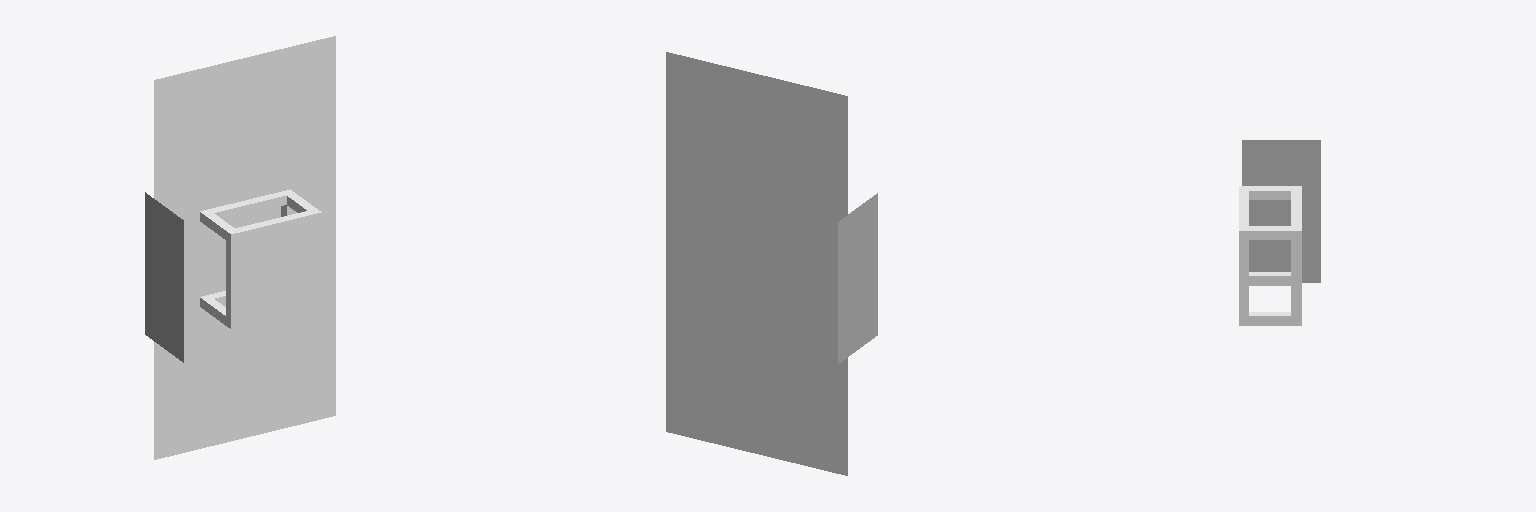
Rendered from linusworld.obj.
3 views of the same model, side by side, from view 1: azimuth 30°, elevation 25°; view 2: azimuth 150°, elevation 25°; view 3: azimuth 270°, elevation 25° (orthographic).
Parts seen in each view (by area): view 1: Plane_Scene.001, Cube__8__Scene, Plane.001_Plane, Cube__3__Scene; view 2: Plane_Scene.001, Plane.001_Plane, Cube__1__Scene; view 3: Plane.001_Plane, Cube__8__Scene, Cube__1__Scene, Cube__4__Scene, Cube__7__Scene, Cube__6__Scene, Cube__5__Scene, Cube__3__Scene.
Part boxes in pixels (x1,y1,x2,y2): Plane_Scene.001: (154,36,335,459); Cube__8__Scene: (226,211,321,329); Plane.001_Plane: (145,192,183,362); Cube__3__Scene: (200,190,294,224); Plane_Scene.001: (666,52,847,475); Plane.001_Plane: (838,193,877,363); Cube__1__Scene: (712,215,720,300); Plane.001_Plane: (1242,140,1320,282); Cube__8__Scene: (1239,191,1248,325); Cube__1__Scene: (1291,240,1301,315); Cube__4__Scene: (1239,186,1301,199); Cube__7__Scene: (1239,226,1295,239); Cube__6__Scene: (1249,312,1290,325); Cube__5__Scene: (1249,272,1290,285); Cube__3__Scene: (1291,191,1301,239).
Size of the model in its own units: 800 by 1600 by 313.